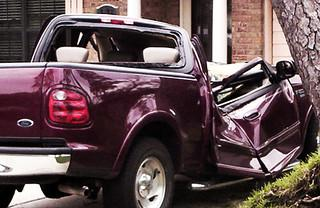doorouter-dent: (233, 94, 298, 165)
quaterpanel-dent: (57, 77, 156, 139)
